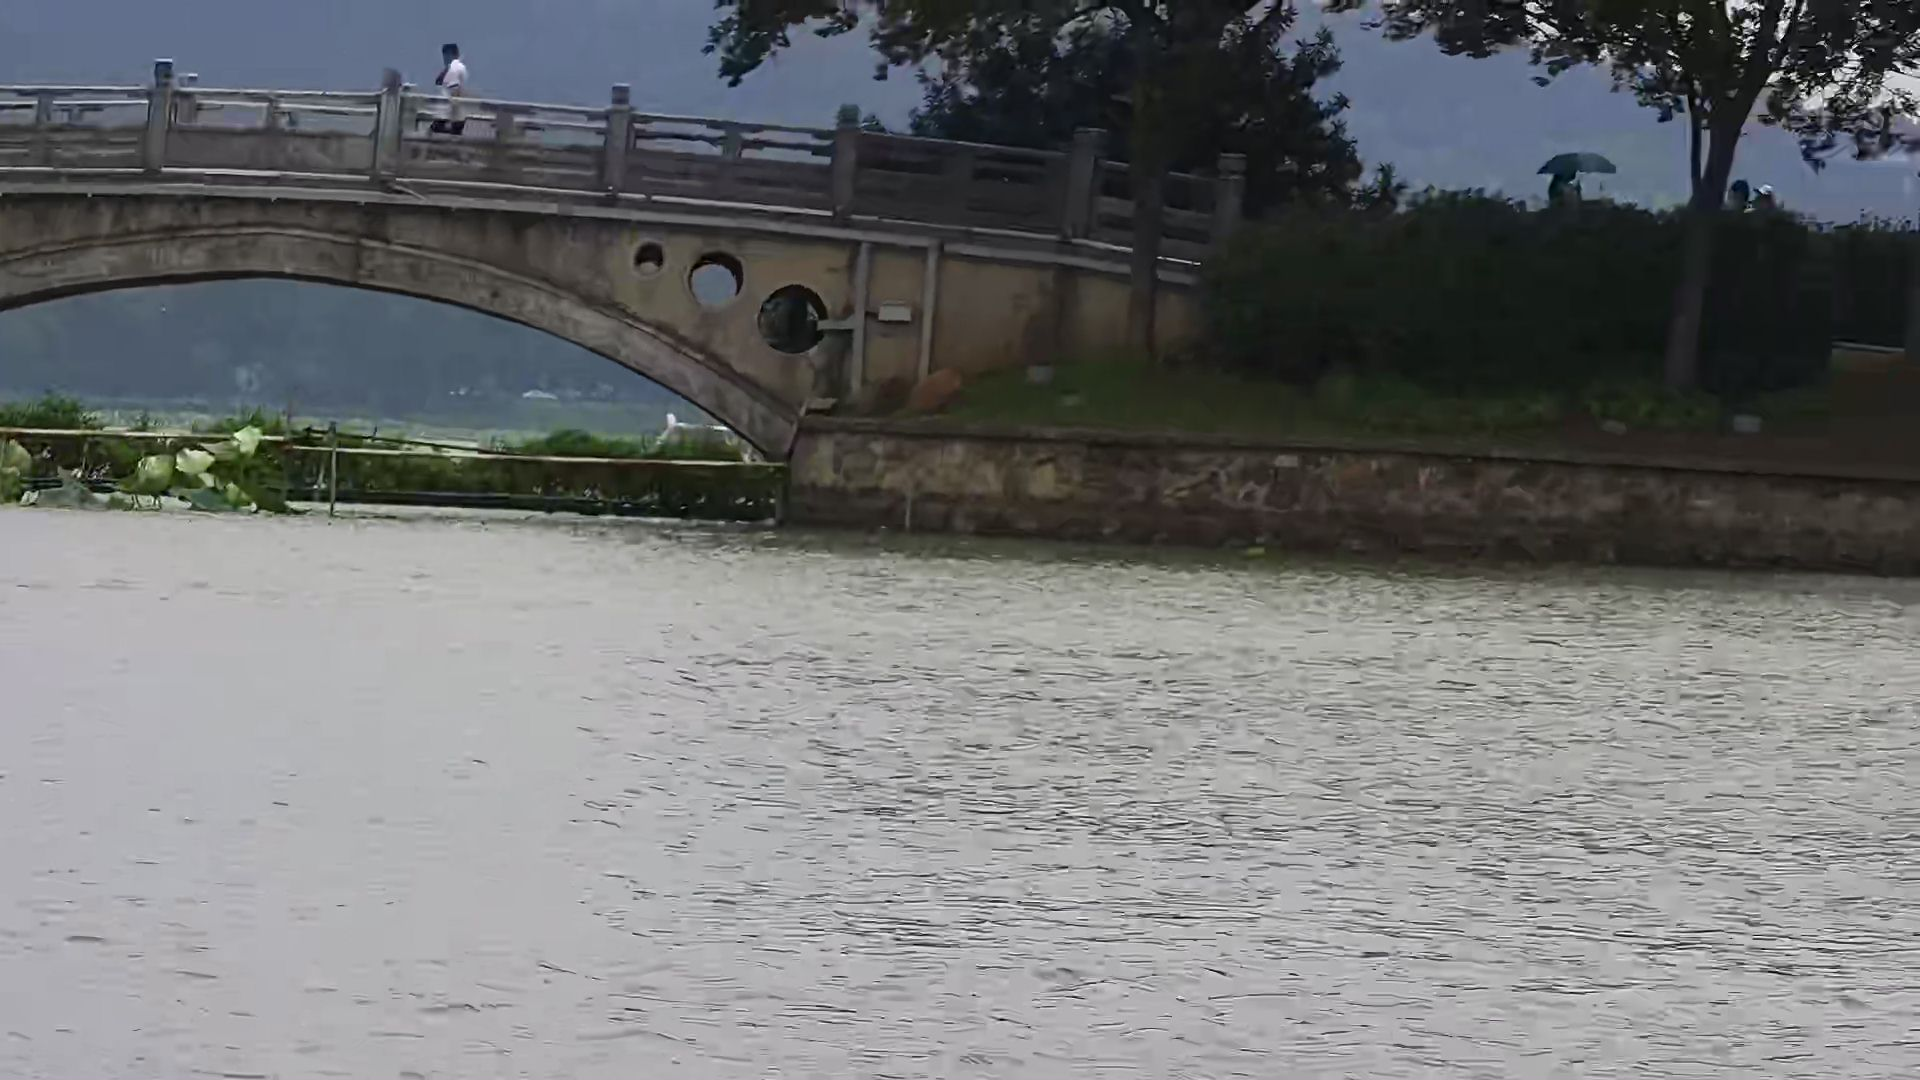bridge: (1, 62, 1261, 469)
grass: (1, 404, 309, 520)
